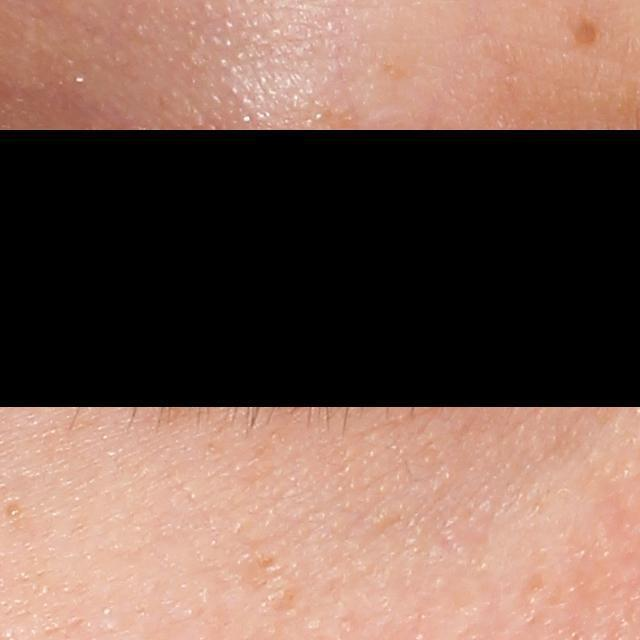melasma: (147, 396, 207, 431), (566, 4, 606, 54), (239, 552, 284, 593)
